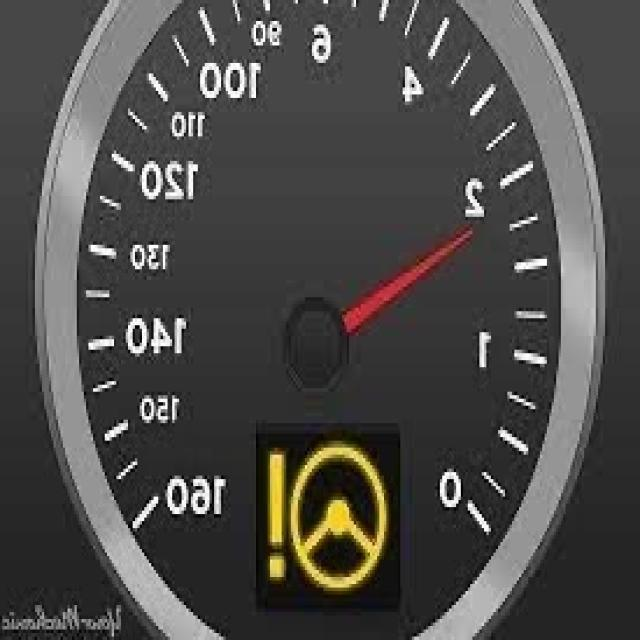Electronic Power Steering: (262, 442, 388, 592)
